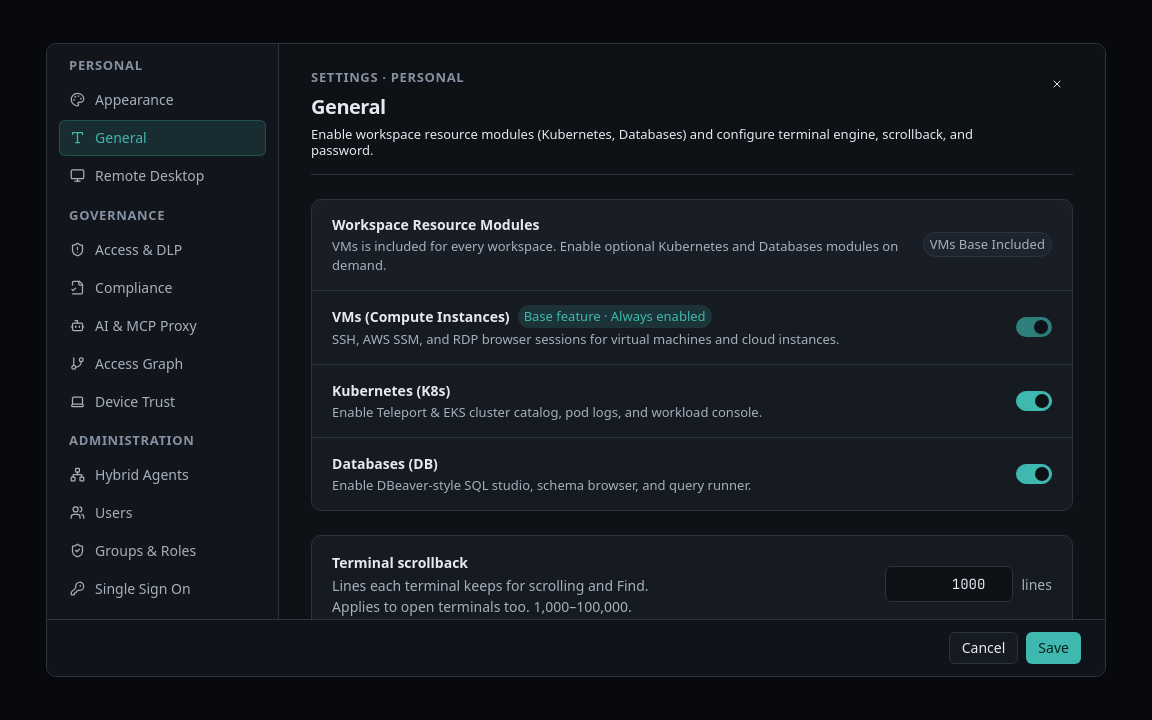
Test: does not close settings dialogs after a failed save
Click the button "Save": (1054, 648) [1026,632,1081,664]
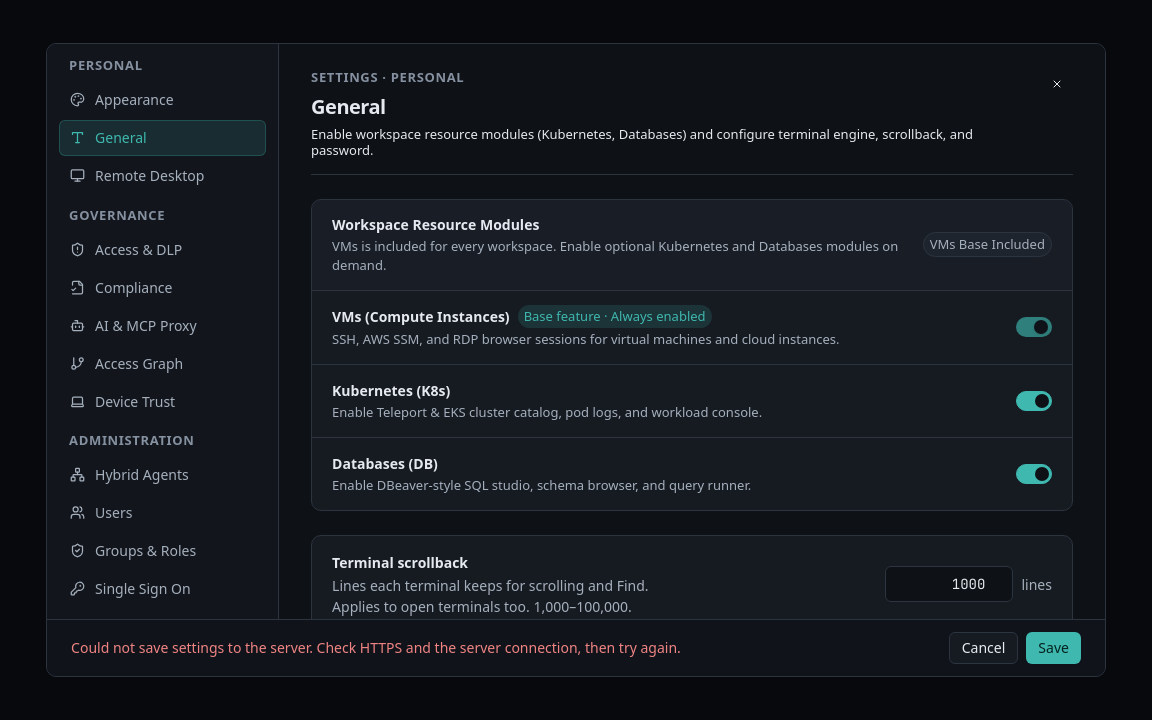
Expected: the message shows "Could not save", [71,638,681,657]
